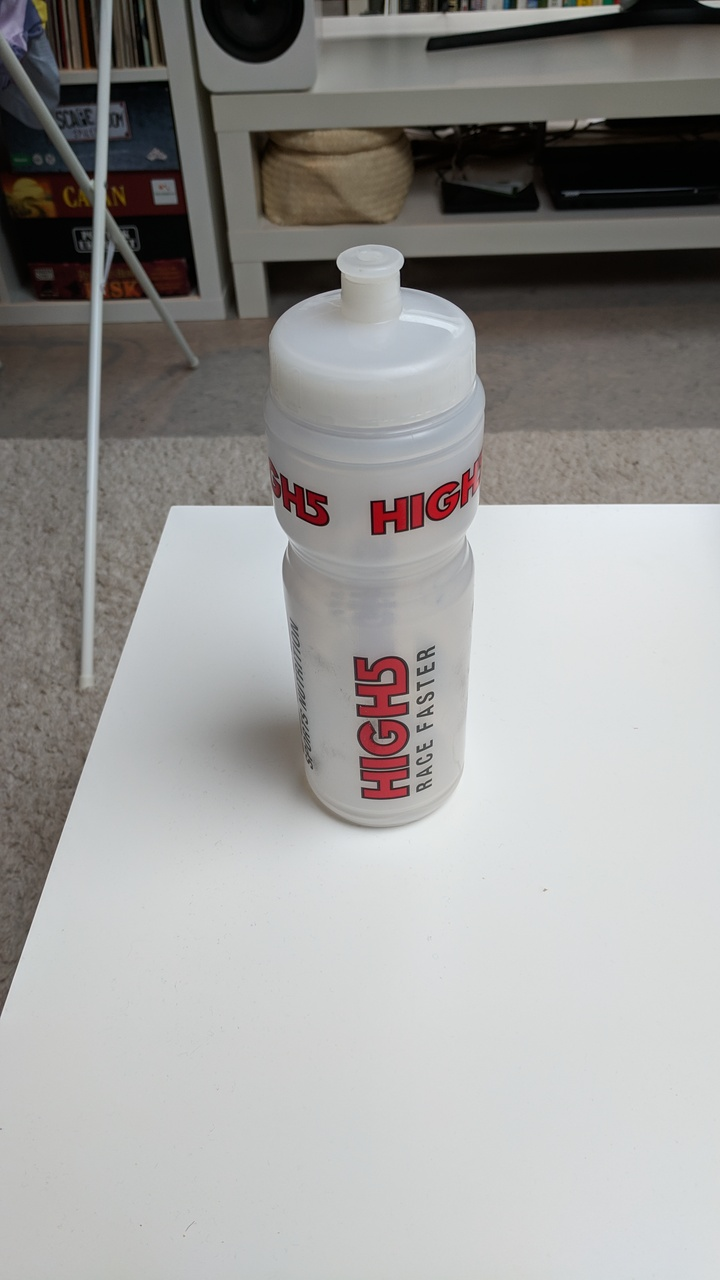high five bottle: (256, 236, 494, 834)
